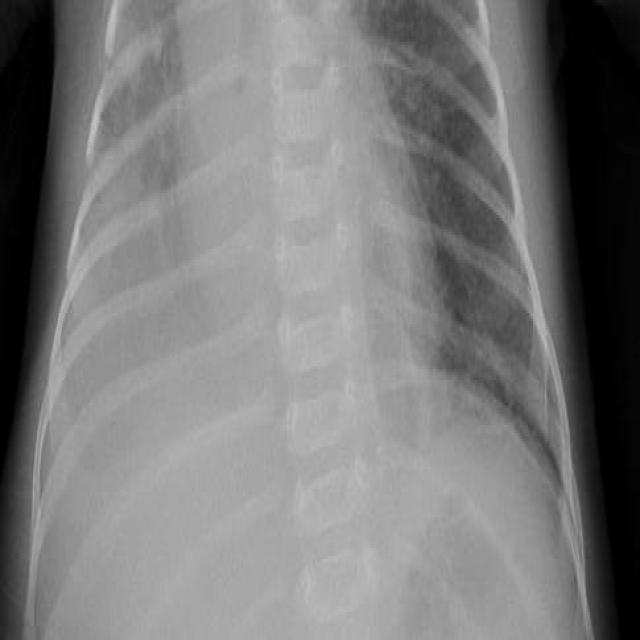high-pneumonia: (63, 155, 197, 412)
low-pneumonia: (373, 1, 456, 264), (110, 1, 182, 167), (468, 255, 532, 411)
